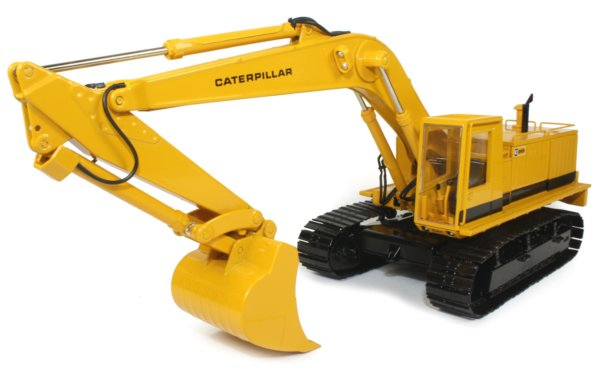backhoe: (10, 4, 581, 353)
